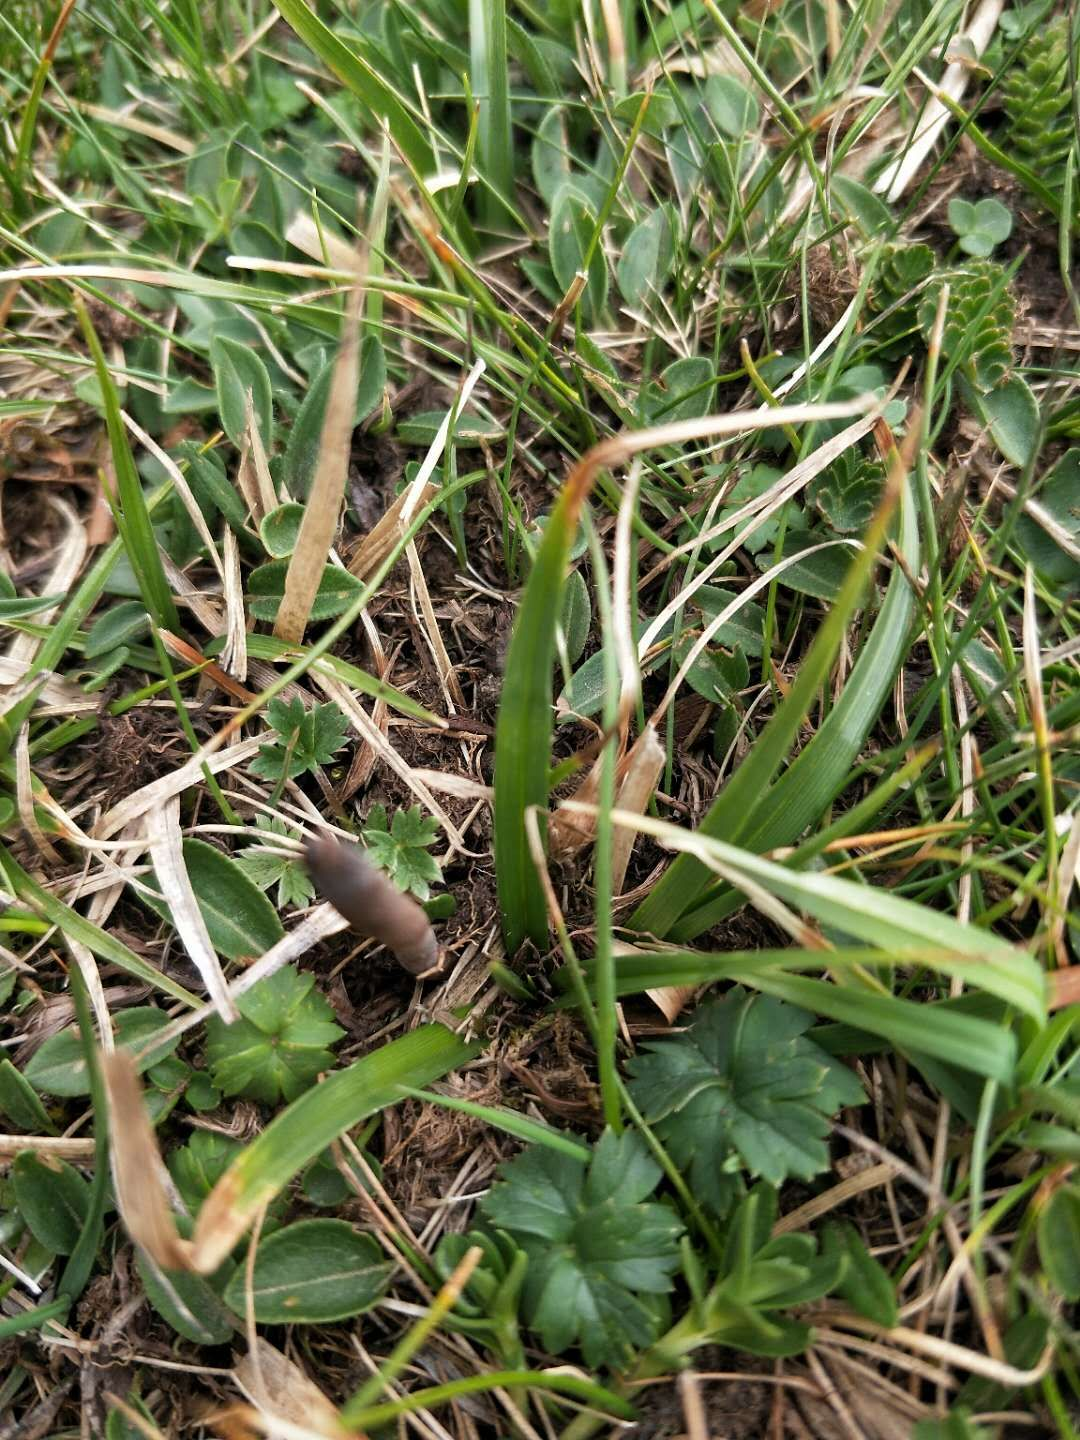cpf: (303, 837, 449, 979)
